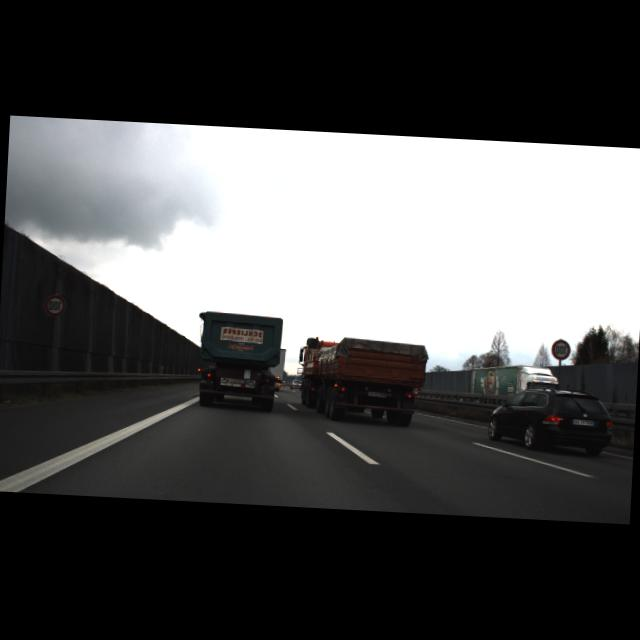prohibitory: (44, 293, 67, 317), (550, 338, 572, 361)
